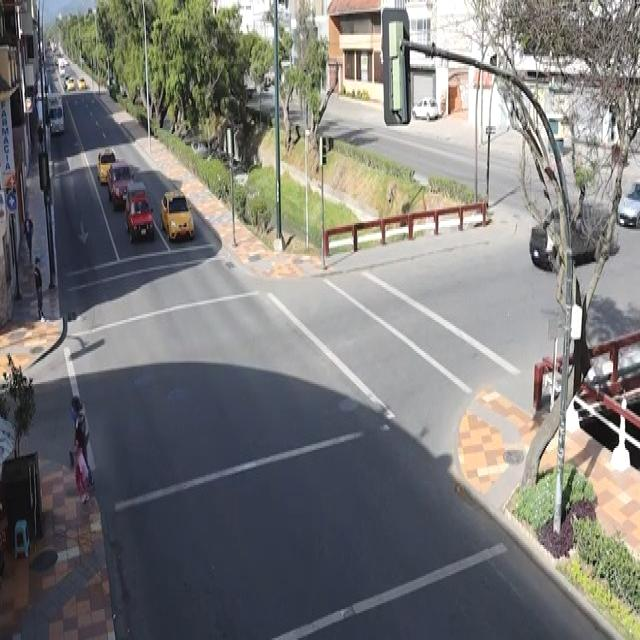CMT: (126, 181, 153, 239), (108, 162, 132, 207)
